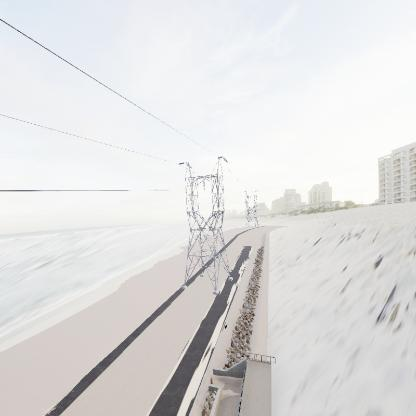tower: (176, 150, 232, 299)
